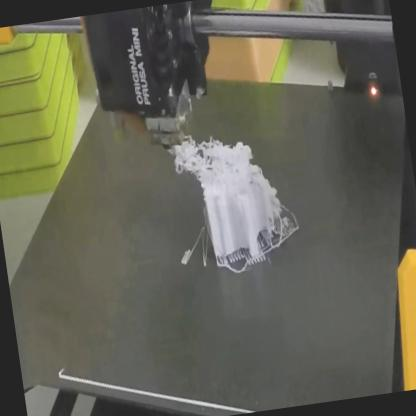fail: (175, 133, 220, 198)
